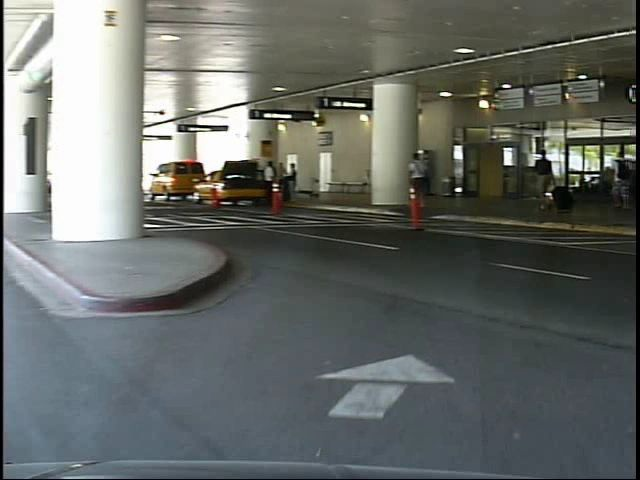person: (536, 145, 563, 220), (410, 148, 437, 215)
